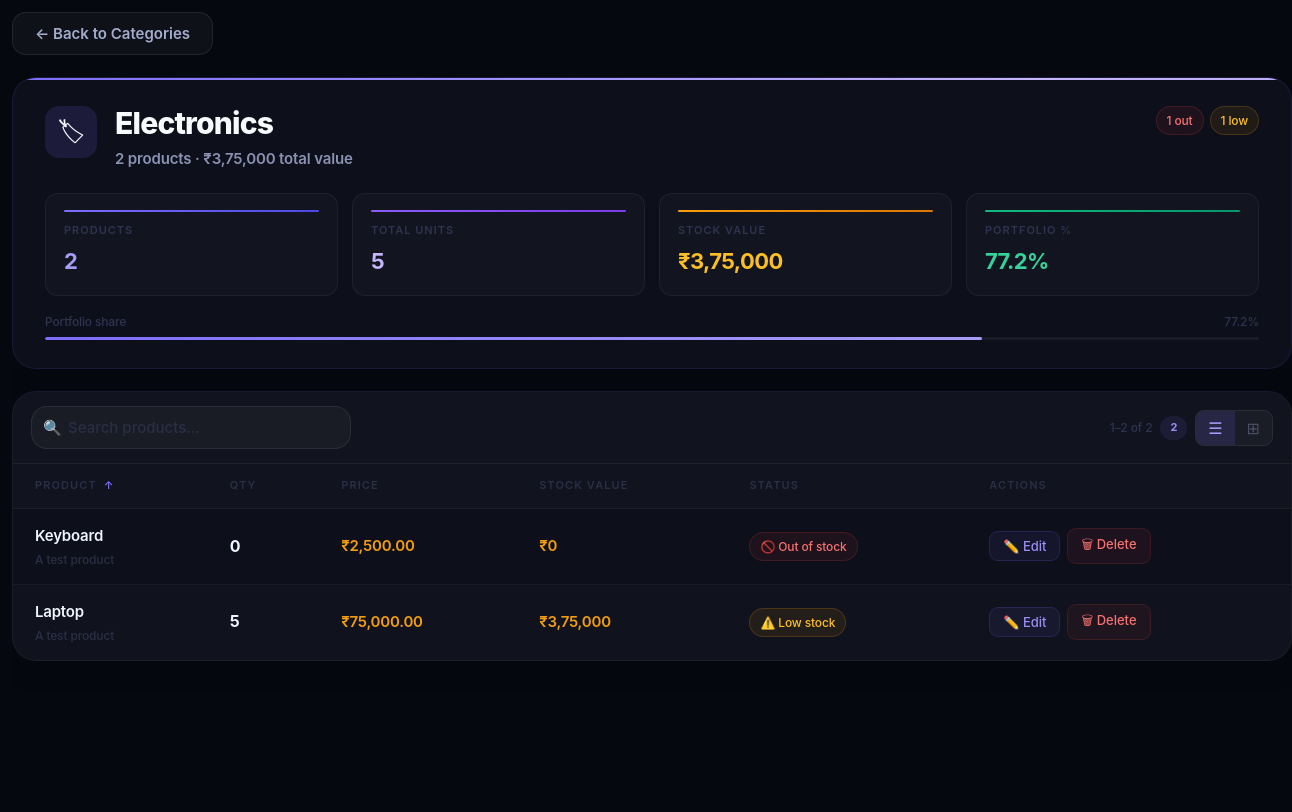
Test case: Page Load — CategoryProductsPage › shows empty state for unmatched search
In the field with placeholder "Search products...": coordinates (191, 428) [31,406,351,450], type "ZZZZZZ"
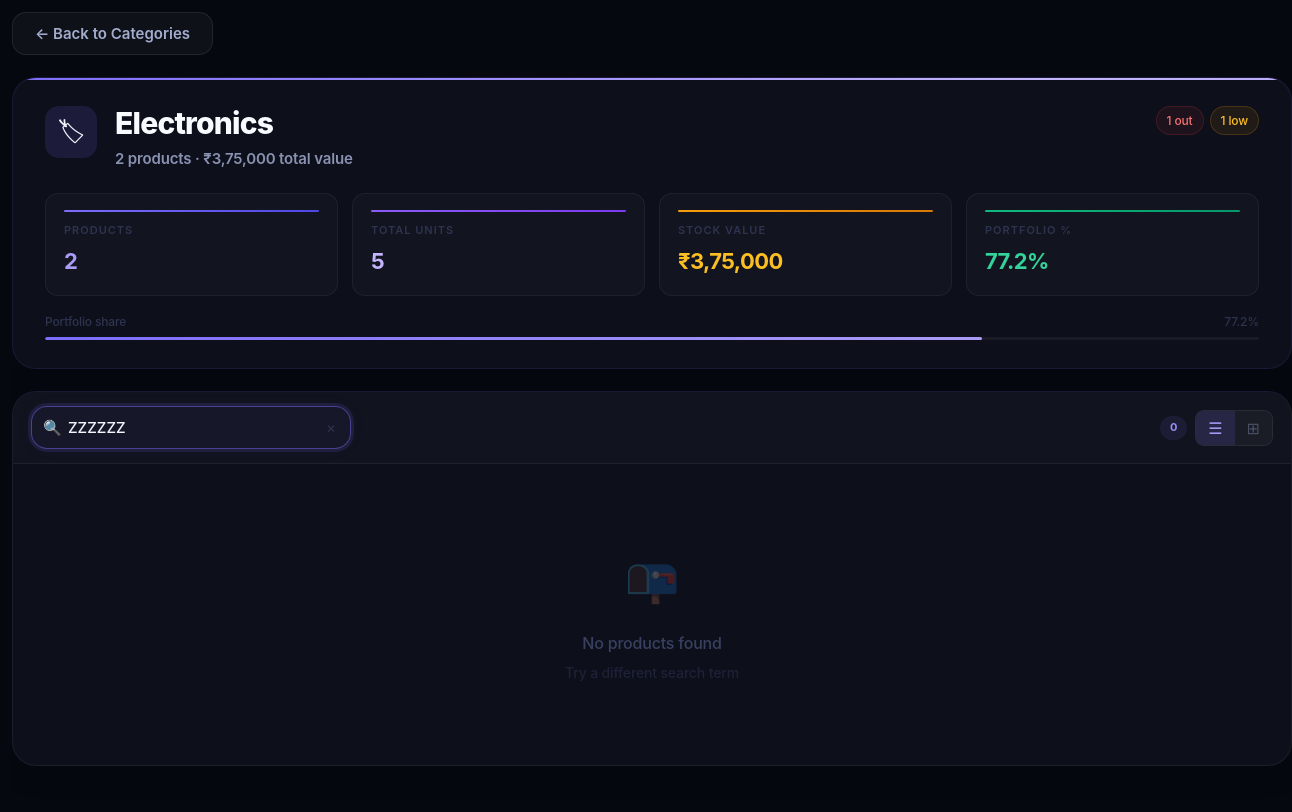
Check: the text "No products found" is shown, box [582,633,722,653]
